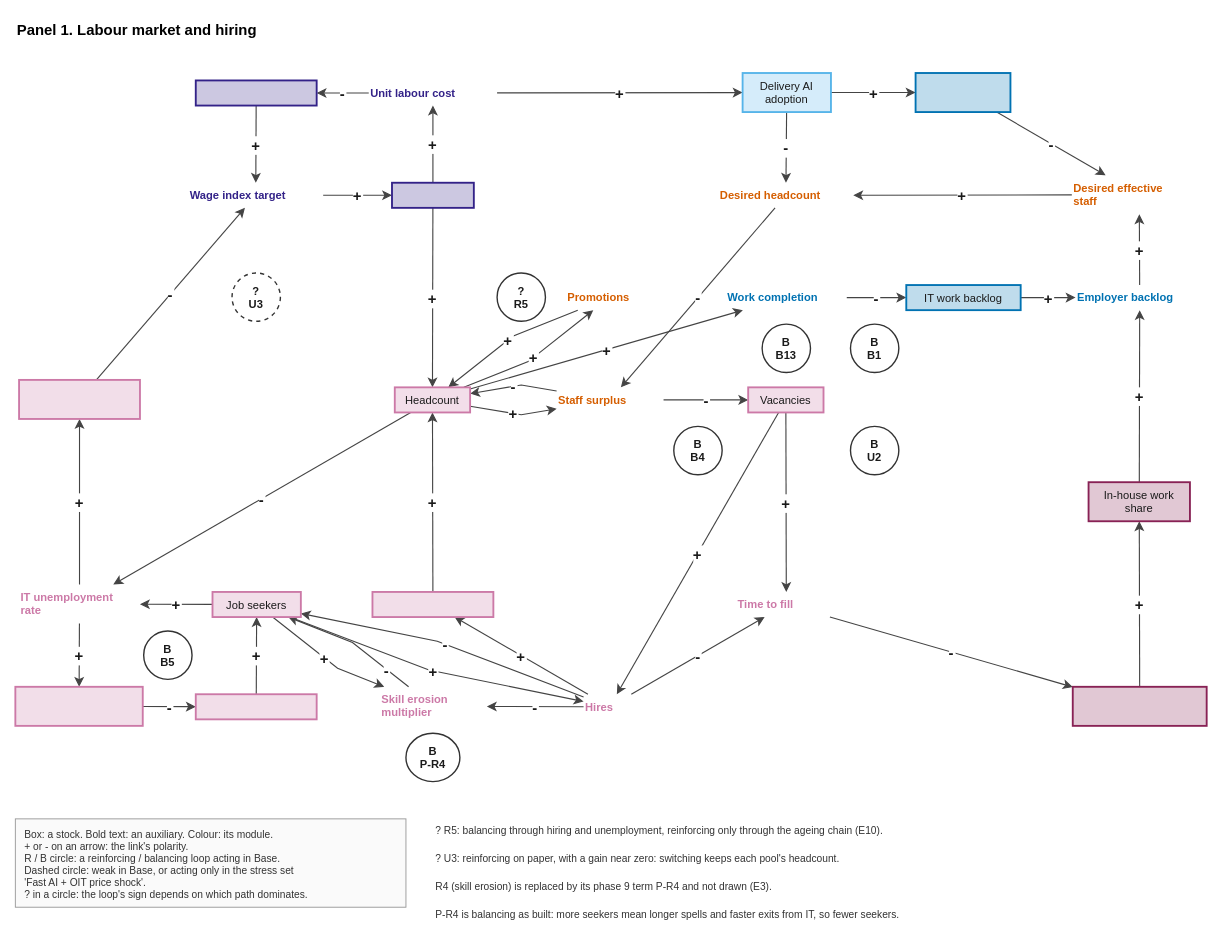
Image size: 1222x942. Some labels were removed from this diagram. The centre of each missing label's shape, as x and y in pixels:
"In-house perceived share" belongs at point 1139,705.
"Onboarding staff" belongs at point 432,604.
"Perceived productivity" belongs at point 962,92.
"Student pipeline" belongs at point 255,706.
"Student-perceived unemployment" belongs at point 78,705.
"Vendor viability" belongs at point 255,92.
"Wage index" belongs at point 432,194.
"Worker-perceived unemployment" belongs at point 79,399.
